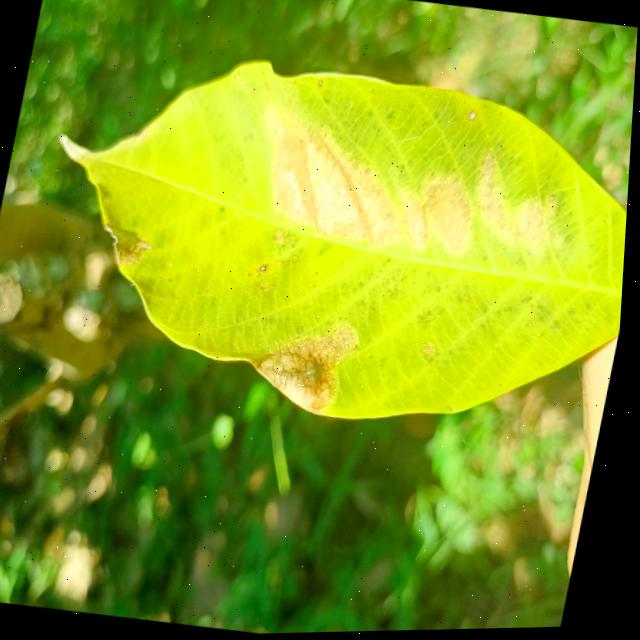Colletotrichum: (469, 112, 476, 123), (317, 80, 324, 89), (262, 268, 268, 273)
Leaf-Blight: (242, 99, 426, 254), (252, 318, 366, 417), (414, 172, 488, 260), (468, 153, 533, 250), (389, 184, 441, 254), (101, 224, 158, 271), (513, 199, 557, 253)
